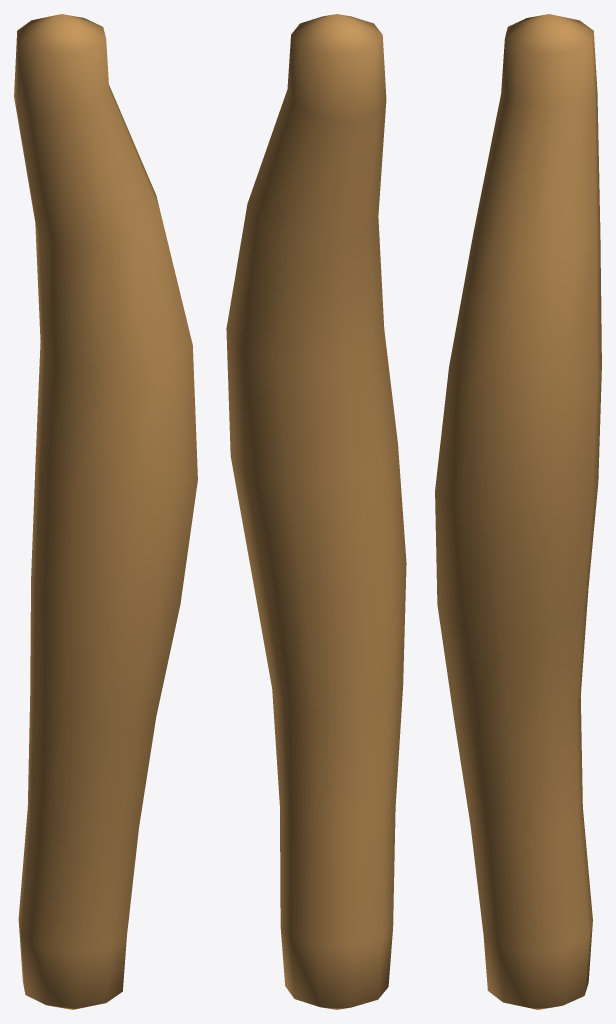
Rendered from femur_T1_left_leg.obj.
The picture shows the model from 3 angles, left to right: view 1: azimuth 30°, elevation 25°; view 2: azimuth 150°, elevation 25°; view 3: azimuth 270°, elevation 25°; orthographic projection.
Size of the model in its own units: 0.0128 by 0.0792 by 0.0121.
